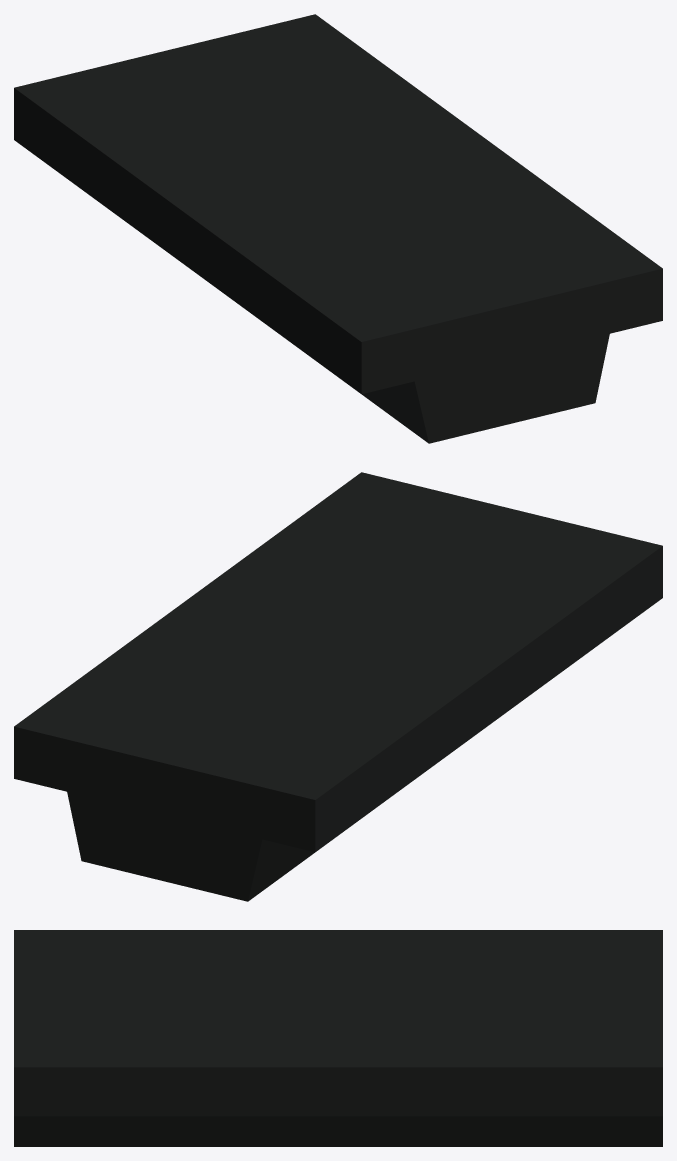
Rendered from AMB_NK_LORD.glb.
The picture shows the model from 3 angles, top to bottom: view 1: azimuth 30°, elevation 25°; view 2: azimuth 150°, elevation 25°; view 3: azimuth 270°, elevation 25°; orthographic projection. The views are drawn at different scales.
Visible parts, largest first — view 1: obj5; view 2: obj5; view 3: obj5.
Boxes of the visible parts, bbox=[...] form: obj5: bbox=[14, 14, 662, 443]; obj5: bbox=[14, 472, 662, 901]; obj5: bbox=[14, 930, 662, 1146].
Bounding box in the file's own units: 50.08 × 18.75 × 100.
Materials: 1 (1 with a texture image).
